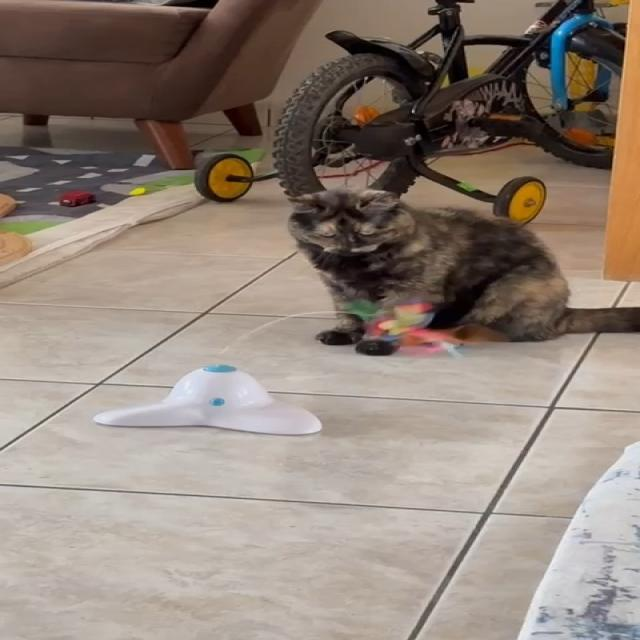authorized: (284, 185, 639, 348)
